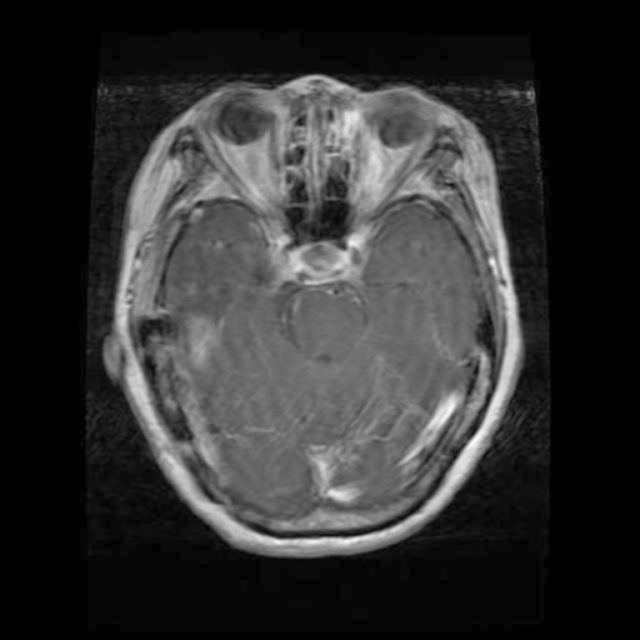pituitary tumor: (184, 314, 234, 378)
